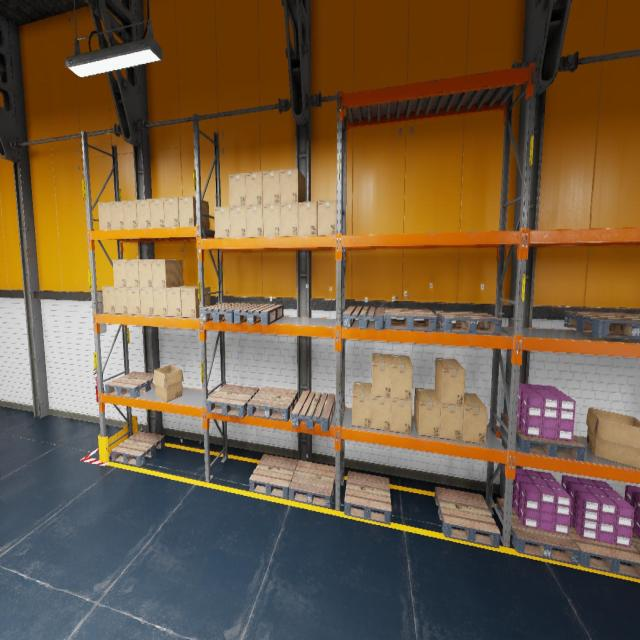box: (586, 407, 640, 469), (434, 390, 464, 441), (435, 358, 465, 406), (414, 387, 441, 438), (462, 393, 488, 444), (152, 364, 184, 402), (178, 196, 209, 229), (390, 354, 412, 400), (180, 286, 210, 318), (372, 353, 392, 398), (280, 168, 305, 204), (166, 286, 195, 317), (151, 260, 183, 288), (352, 382, 371, 428), (391, 398, 412, 434), (371, 396, 391, 431), (318, 200, 337, 236), (298, 201, 317, 236), (280, 202, 298, 236), (262, 170, 280, 204), (245, 171, 263, 205), (263, 204, 280, 237), (229, 173, 246, 206), (246, 205, 263, 237), (230, 205, 246, 238), (214, 206, 230, 238), (164, 197, 179, 227), (136, 199, 151, 228), (150, 198, 164, 227), (123, 200, 137, 229), (153, 288, 167, 316), (140, 288, 154, 316), (126, 287, 140, 315), (138, 260, 152, 288), (125, 260, 139, 288), (110, 201, 124, 229), (114, 287, 128, 314), (102, 286, 115, 314), (113, 259, 126, 287), (98, 202, 111, 230)
pallets: (496, 498, 580, 565), (500, 413, 586, 460), (569, 523, 640, 579), (435, 487, 500, 548), (344, 471, 391, 525), (289, 460, 335, 508), (250, 454, 298, 499), (564, 311, 640, 339), (111, 431, 165, 466), (292, 391, 336, 432), (248, 386, 298, 422), (206, 384, 259, 417), (435, 311, 502, 335), (384, 307, 438, 332), (105, 372, 155, 398), (200, 302, 252, 323), (234, 303, 283, 325), (343, 306, 384, 330), (631, 530, 640, 554)
